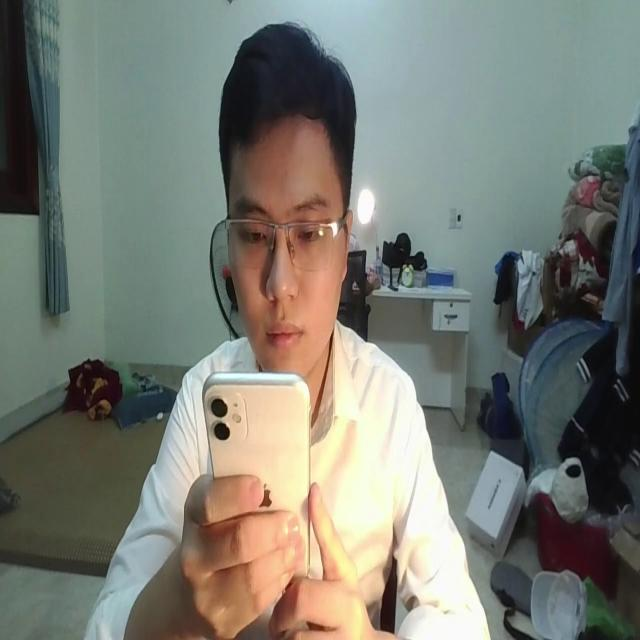phone: (204, 366, 315, 597)
student: (78, 23, 489, 640)
